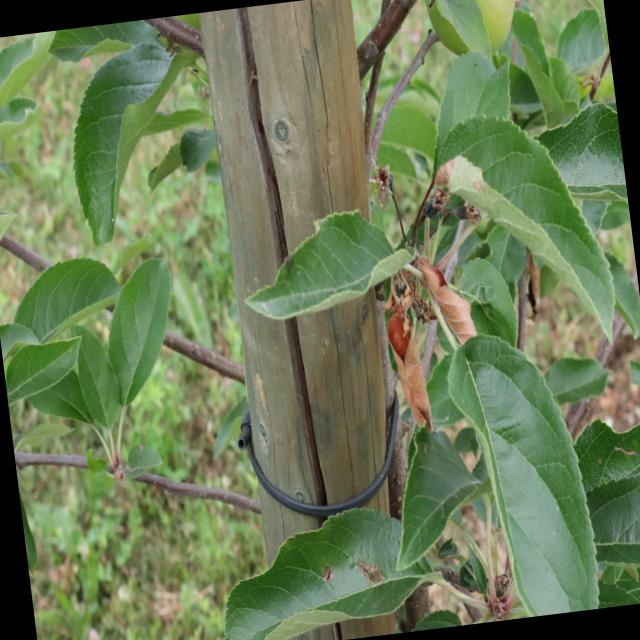-FireBlight-: (377, 276, 438, 446), (408, 204, 480, 344)
